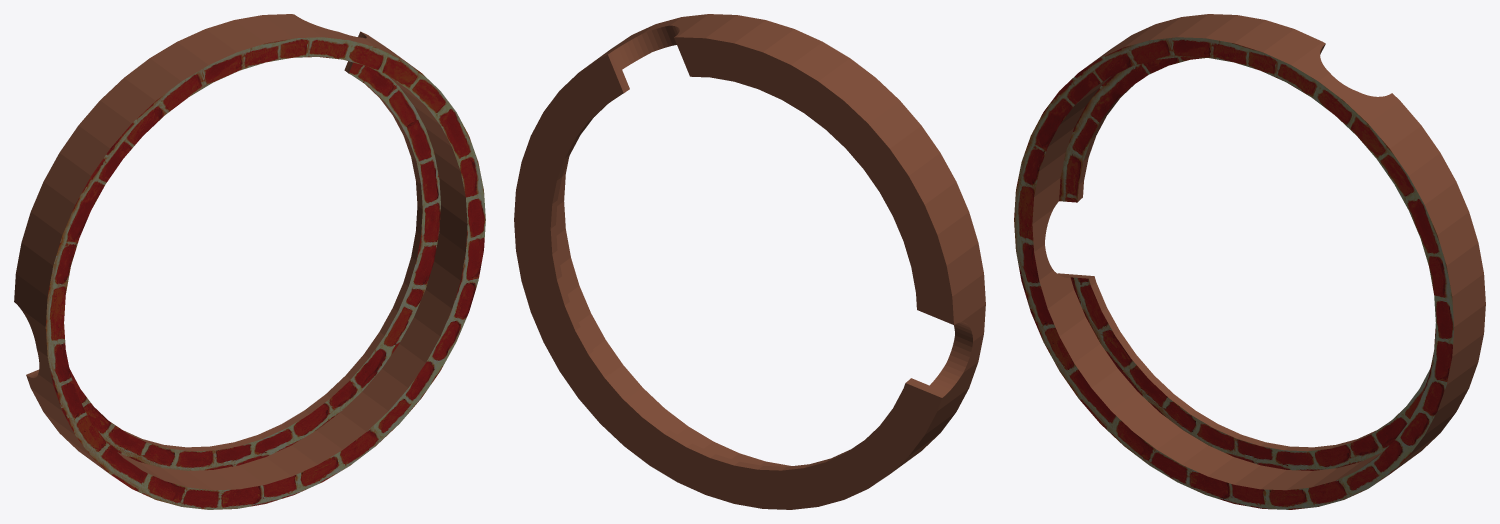
Rendered from pool_023.obj.
3 renders of one model, left to right at view 1: azimuth 30°, elevation 25°; view 2: azimuth 150°, elevation 25°; view 3: azimuth 330°, elevation 25°, orthographic.
Bounding box in the file's own units: 24 × 24 × 3.
